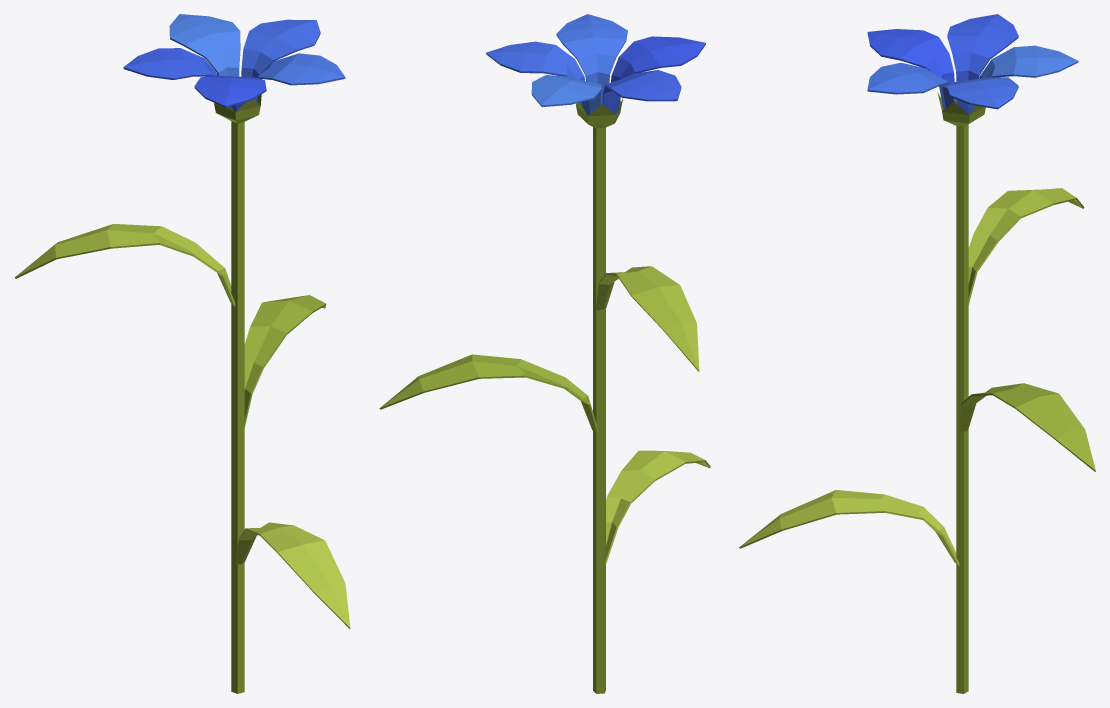
Rendered from NHP_Flower_LP_A1_H70cm_03.fbx.
3 renders of one model, left to right at view 1: azimuth 30°, elevation 25°; view 2: azimuth 150°, elevation 25°; view 3: azimuth 270°, elevation 25°, orthographic.
Visible parts, largest first — view 1: NHP_Flower_LP_A1_H70cm_03_LOD0; view 2: NHP_Flower_LP_A1_H70cm_03_LOD0; view 3: NHP_Flower_LP_A1_H70cm_03_LOD0.
Boxes of the visible parts, x1,y1,x2,y2 form: NHP_Flower_LP_A1_H70cm_03_LOD0: (14,14,350,693); NHP_Flower_LP_A1_H70cm_03_LOD0: (379,14,710,693); NHP_Flower_LP_A1_H70cm_03_LOD0: (739,14,1095,693).
Size of what is drawn, in the model's own units: 0.3635 by 0.6985 by 0.3565.
